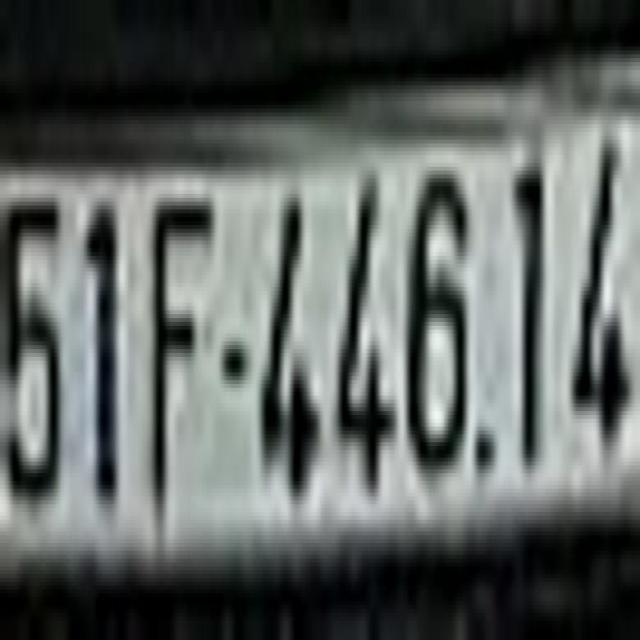1: (81, 190, 124, 524), (511, 151, 544, 485)
4: (258, 182, 322, 508), (336, 167, 397, 496), (572, 120, 630, 454)
5: (0, 190, 65, 512)
6: (404, 155, 468, 481)
F: (152, 194, 216, 504)
